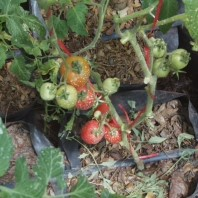tomato: (56, 54, 91, 88), (80, 117, 104, 146), (55, 83, 77, 112), (76, 86, 98, 111), (167, 48, 192, 69), (102, 75, 122, 100), (104, 121, 125, 144), (149, 39, 171, 60), (38, 80, 59, 102), (153, 57, 172, 80), (96, 101, 115, 124)
